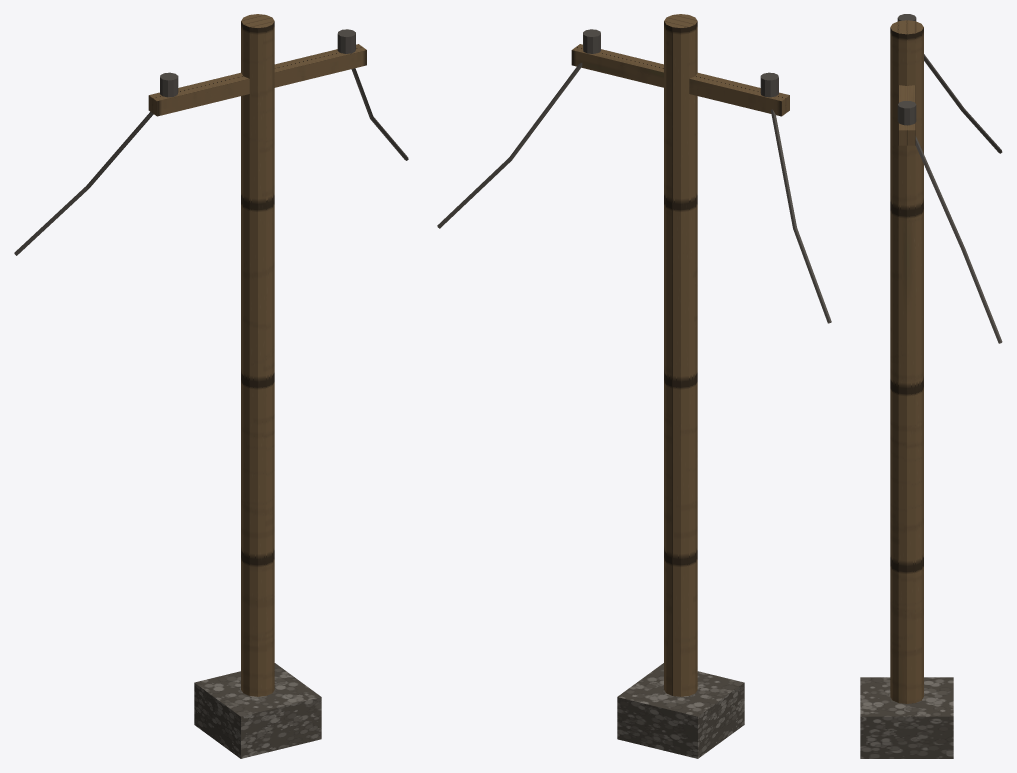
The model's file is dong-lua-cot-dien-go.glb.
3 views of the same model, side by side, from view 1: azimuth 30°, elevation 25°; view 2: azimuth 150°, elevation 25°; view 3: azimuth 270°, elevation 25° (orthographic).
Visible parts, largest first — view 1: dong-lua-cot-dien-go; view 2: dong-lua-cot-dien-go; view 3: dong-lua-cot-dien-go.
Part boxes in pixels (x1,y1,x2,y2): dong-lua-cot-dien-go: (14, 14, 408, 758); dong-lua-cot-dien-go: (437, 14, 831, 758); dong-lua-cot-dien-go: (860, 14, 1002, 758).
Size of the model in its own units: 2.44 by 4.2 by 0.7609.
3 materials, 2 textured.
